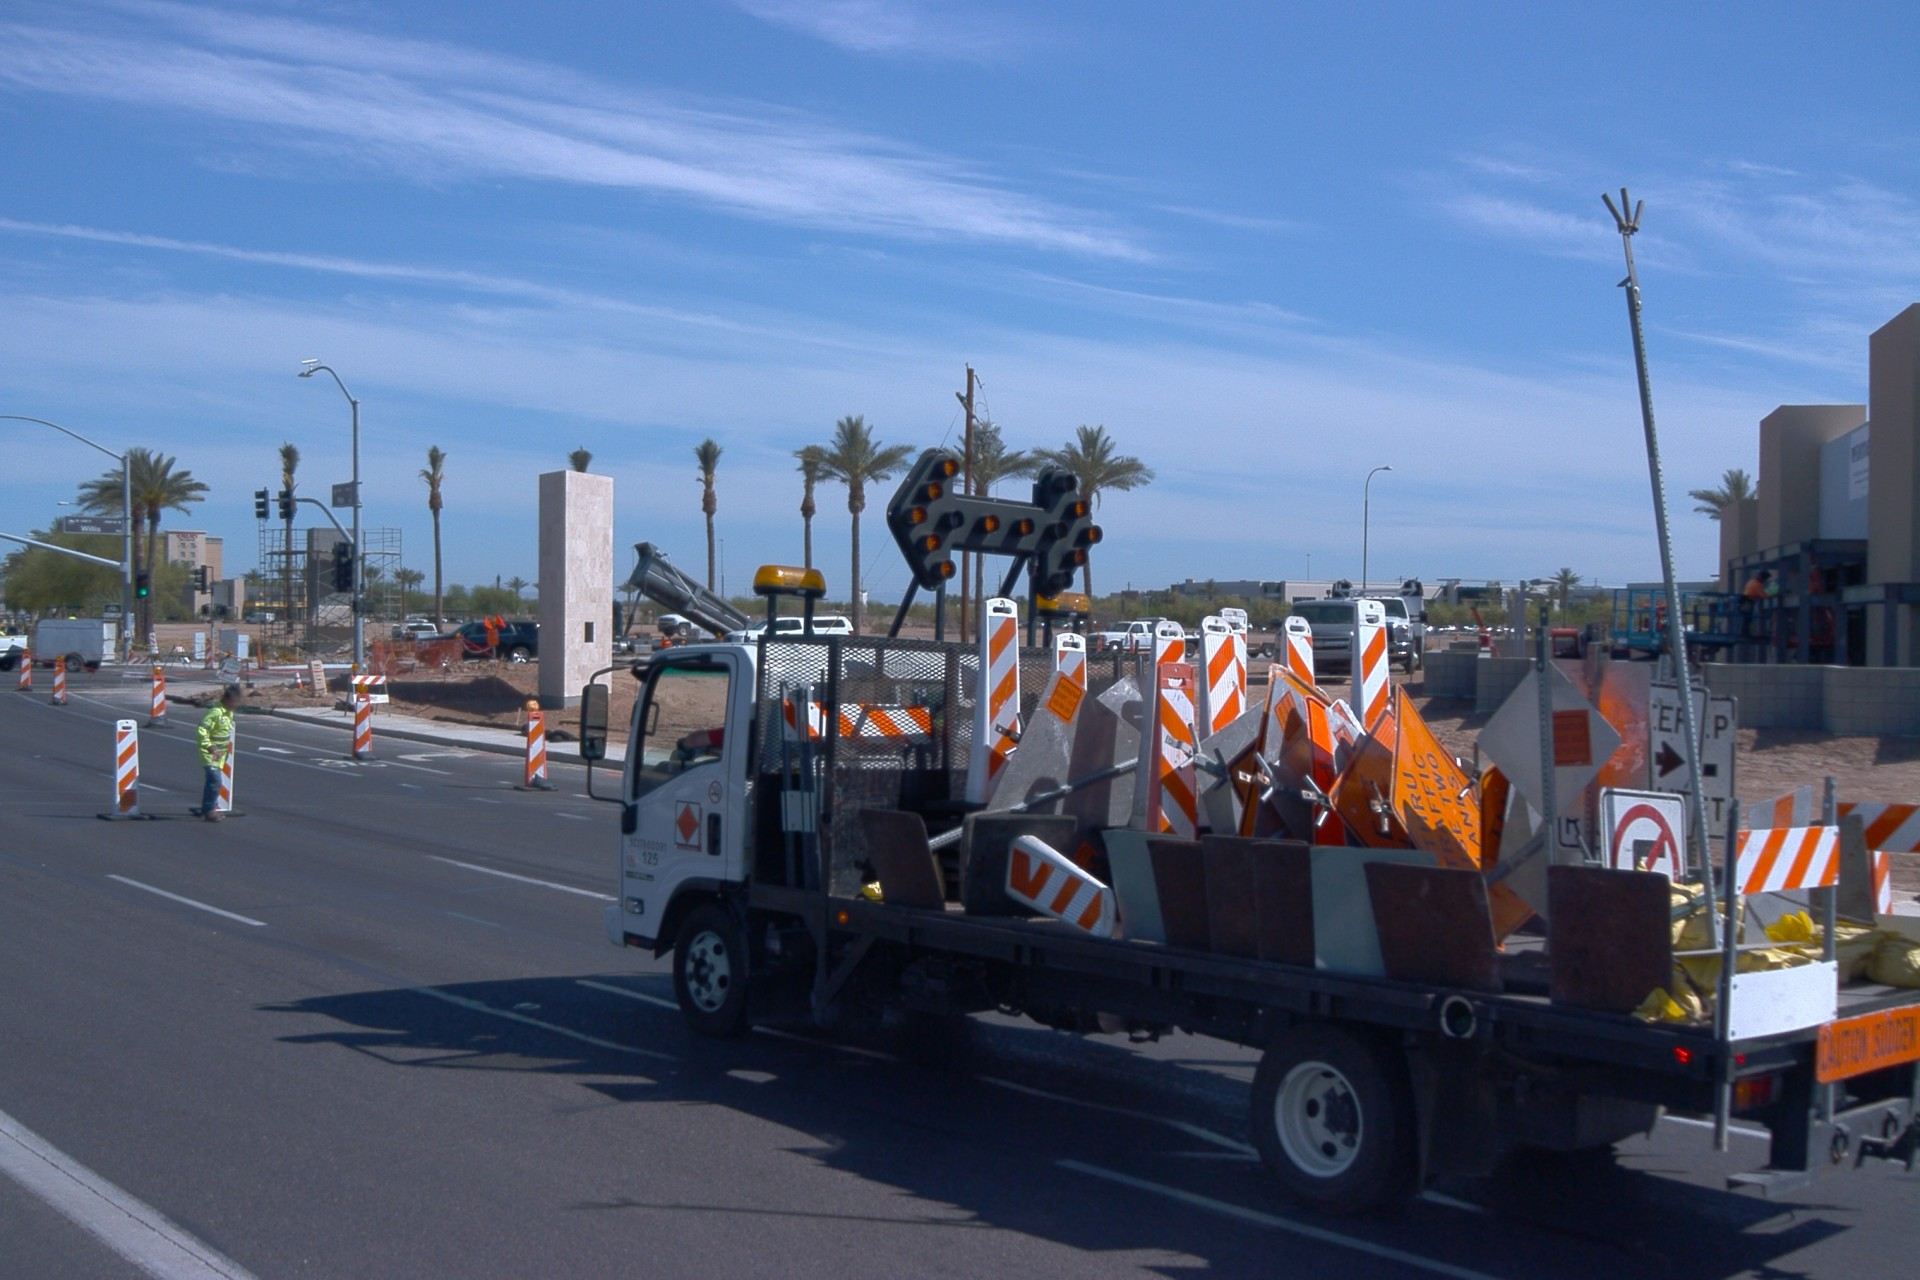TYPE_PEDESTRIAN: (197, 685, 245, 824), (68, 608, 80, 620), (0, 624, 5, 637)
TYPE_VEHICLE: (577, 180, 1920, 1224), (610, 540, 757, 657), (1268, 585, 1374, 696), (1329, 578, 1435, 674), (409, 613, 537, 668), (1079, 616, 1201, 665), (35, 611, 117, 669), (720, 616, 851, 649), (41, 611, 104, 651), (0, 633, 30, 674), (656, 612, 705, 636), (401, 628, 444, 644), (1244, 637, 1277, 655), (246, 612, 279, 626)
